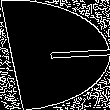L_W: (7, 37, 103, 73)
